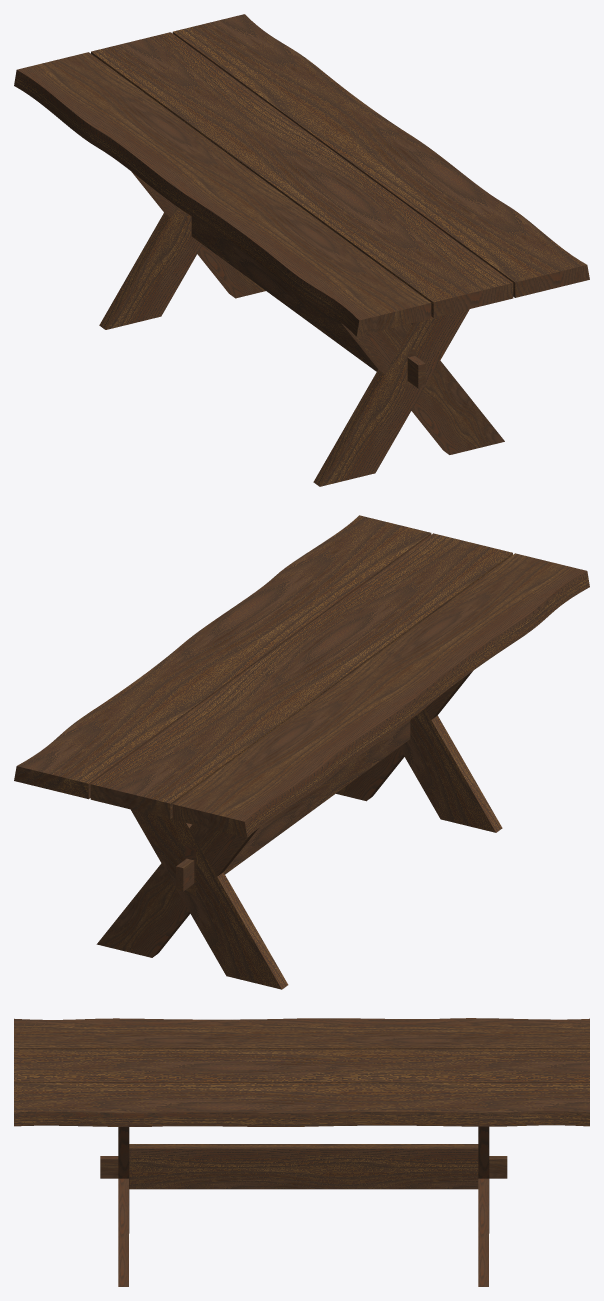
The model's file is outside_table.gltf.
3 renders of one model, top to bottom at view 1: azimuth 30°, elevation 25°; view 2: azimuth 150°, elevation 25°; view 3: azimuth 270°, elevation 25°, orthographic. The views are drawn at different scales.
Visible parts, largest first — view 1: Cube.002, Cube, Cube.001, Plane.001, Plane.002, Cube.005; view 2: Cube.002, Cube, Cube.001, Plane.002, Plane.001, Cube.005; view 3: Cube.001, Cube, Cube.002, Cube.005, Plane.002, Plane.001, Cube.007, Cube.008.
Boxes of the visible parts, x1,y1,x2,y2 form: Cube.002: (14, 52, 431, 336); Cube: (91, 32, 513, 317); Cube.001: (172, 14, 589, 297); Plane.001: (313, 309, 504, 486); Plane.002: (99, 172, 265, 329); Cube.005: (191, 216, 416, 392); Cube.002: (172, 553, 589, 837); Cube: (90, 533, 512, 818); Cube.001: (14, 515, 431, 799); Plane.002: (96, 809, 288, 989); Plane.001: (336, 671, 502, 832); Cube.005: (185, 720, 410, 895); Cube.001: (14, 1082, 589, 1126); Cube: (14, 1049, 589, 1082); Cube.002: (14, 1018, 589, 1049); Cube.005: (129, 1144, 478, 1189); Plane.002: (478, 1126, 489, 1286); Plane.001: (118, 1127, 129, 1286); Cube.007: (100, 1156, 118, 1178); Cube.008: (489, 1156, 507, 1178).
Bounding box in the file's own units: 1.28 × 1.12 × 3.2.
1 material, 1 textured.
